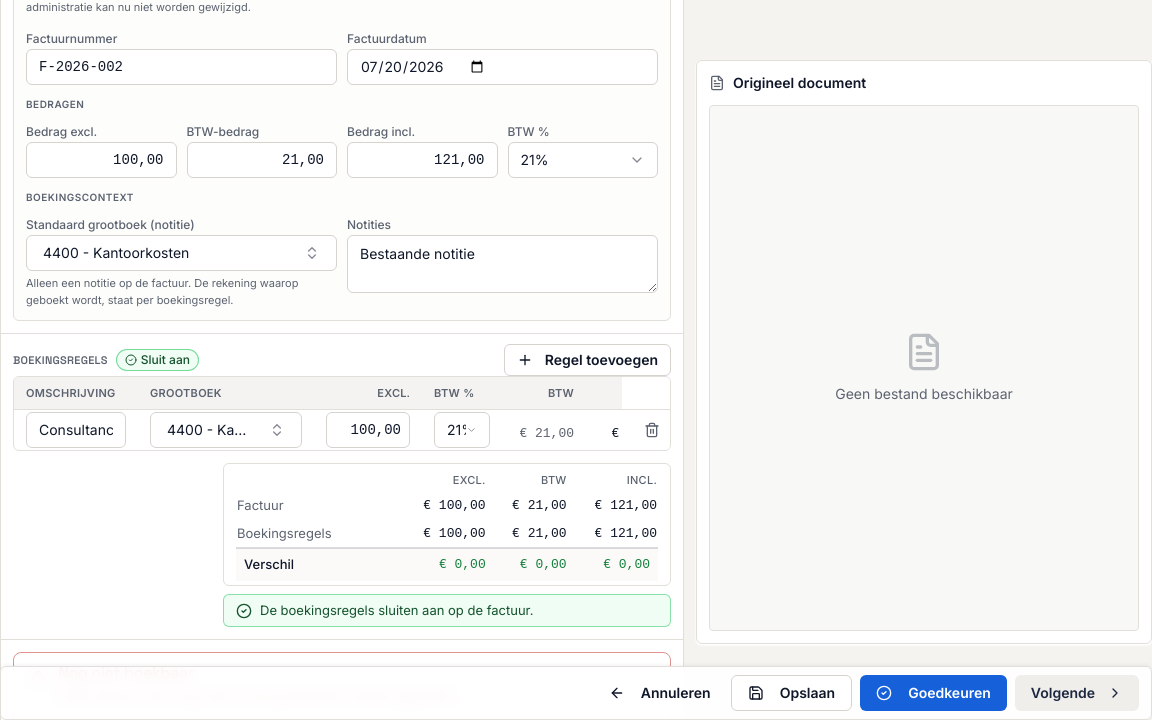
Test: PurchaseInvoiceWorkspace — factuurgegevens & boekingsregels › 13. incomplete regel blijft gedetecteerd via bestaande partial-line logica
(page scrolled)
Click the button "Regel toevoegen": coordinates (587, 360) [504,344,671,376]
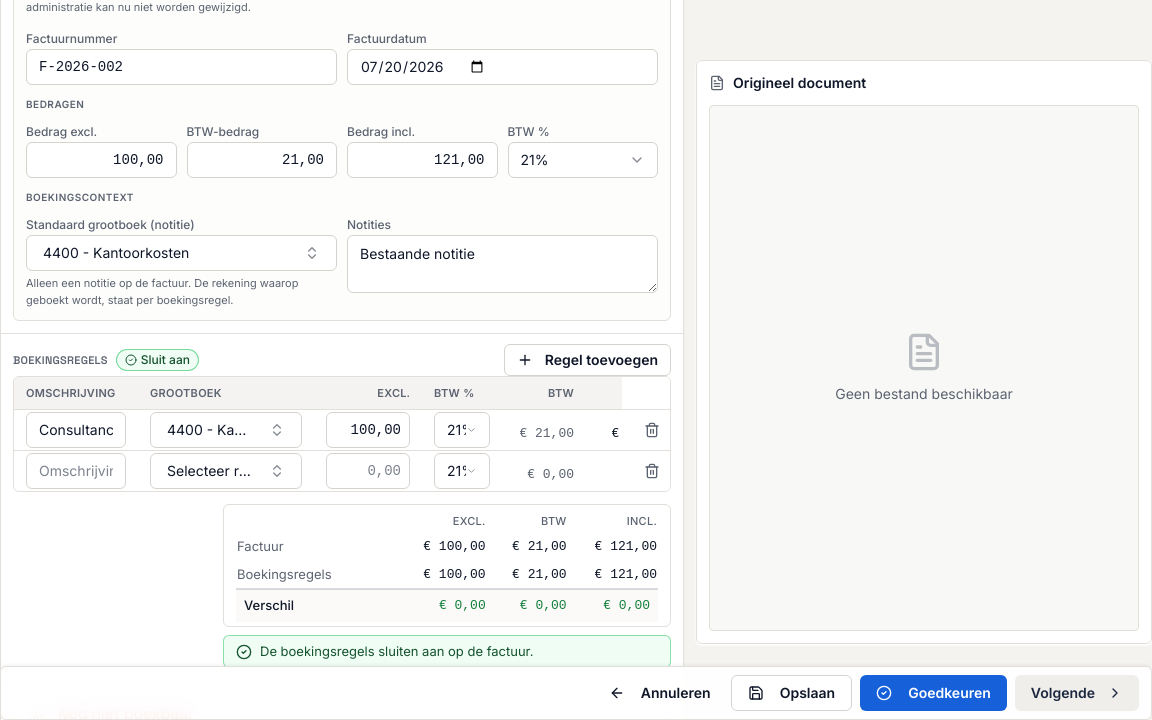
In the field with placeholder "Omschrijving": coordinates (76, 470) [26,452,126,488], type "Alleen omschrijving"
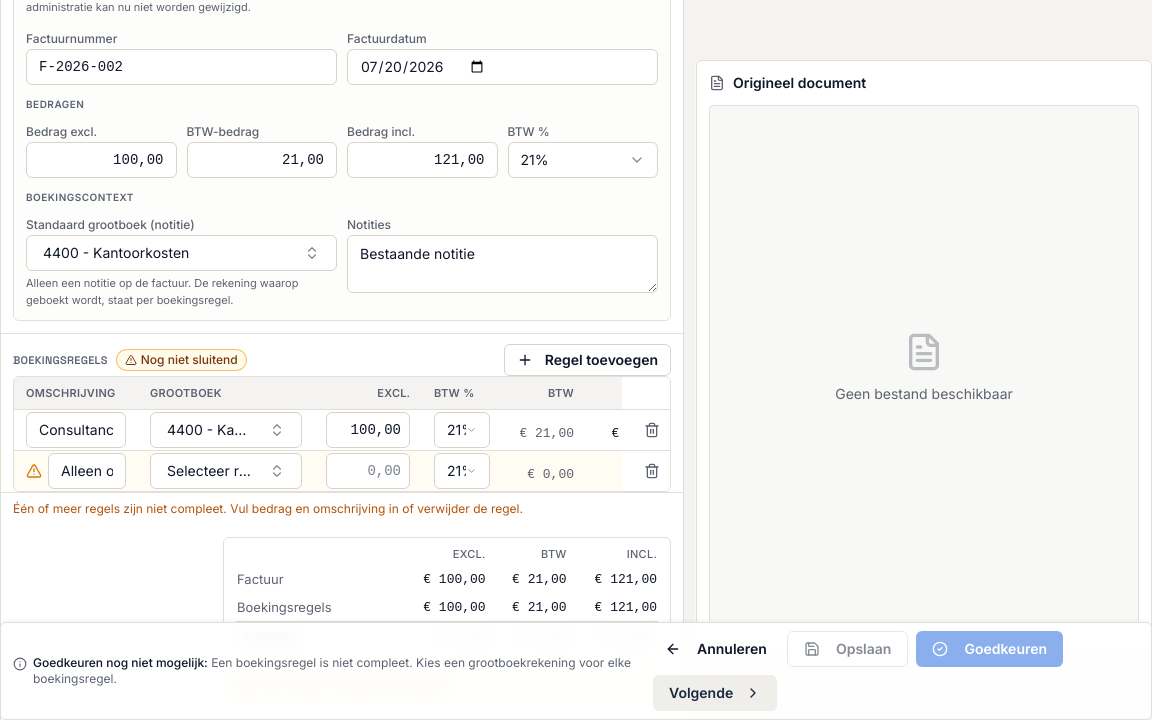
Result: the message with test id "partial-line-warning" shows "niet compleet" at [13,500,523,516]
